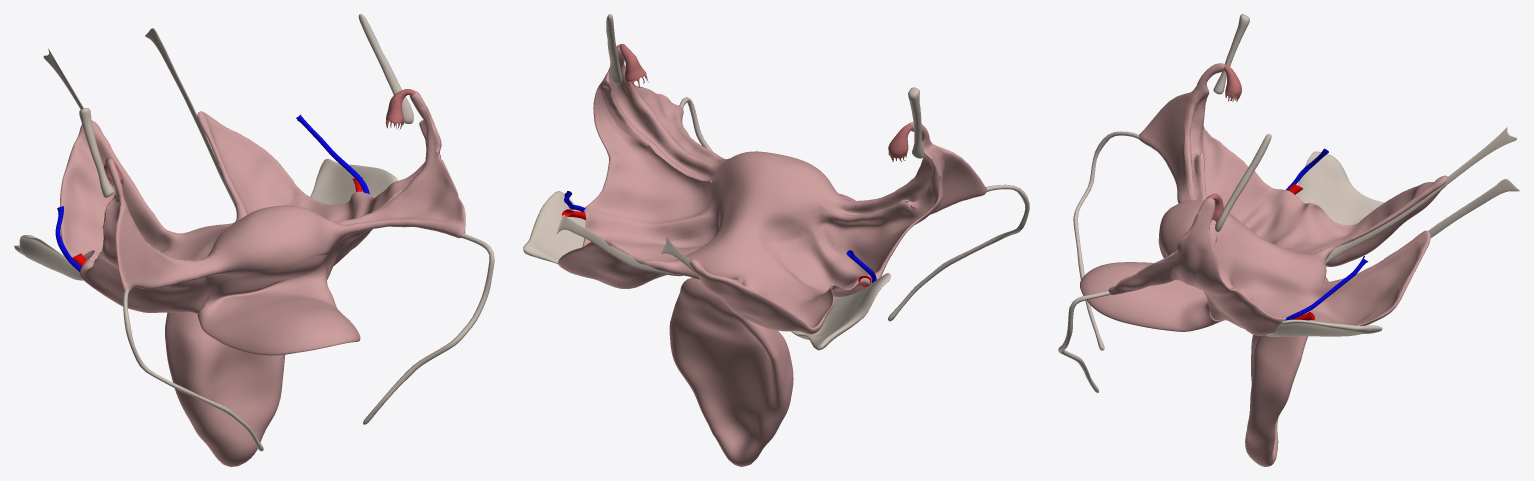
File: 3d-vh-f-uterus-landmark.fbx
3 renders of one model, left to right at view 1: azimuth 30°, elevation 25°; view 2: azimuth 150°, elevation 25°; view 3: azimuth 270°, elevation 25°, orthographic. The views are drawn at different scales.
Parts seen in each view (by area): view 1: VH_F_uterus_landmark_ligaments_of_uterus_and_ovaries, VH_F_uterus_landmark_vagina, VH_F_uterus_landmark_left_uterine_vein, VH_F_uterus_landmark_fallopian_tube_L; view 2: VH_F_uterus_landmark_ligaments_of_uterus_and_ovaries, VH_F_uterus_landmark_vagina, VH_F_uterus_landmark_fallopian_tube_L, VH_F_uterus_landmark_fallopian_tube_R; view 3: VH_F_uterus_landmark_ligaments_of_uterus_and_ovaries, VH_F_uterus_landmark_vagina, VH_F_uterus_landmark_left_uterine_vein.
Boxes of the visible parts, bbox=[...] form: VH_F_uterus_landmark_ligaments_of_uterus_and_ovaries: bbox=[14, 14, 494, 451]; VH_F_uterus_landmark_vagina: bbox=[165, 312, 285, 466]; VH_F_uterus_landmark_left_uterine_vein: bbox=[296, 114, 369, 194]; VH_F_uterus_landmark_fallopian_tube_L: bbox=[385, 89, 415, 129]; VH_F_uterus_landmark_ligaments_of_uterus_and_ovaries: bbox=[523, 14, 1029, 350]; VH_F_uterus_landmark_vagina: bbox=[669, 278, 793, 466]; VH_F_uterus_landmark_fallopian_tube_L: bbox=[619, 44, 648, 89]; VH_F_uterus_landmark_fallopian_tube_R: bbox=[854, 123, 912, 207]; VH_F_uterus_landmark_ligaments_of_uterus_and_ovaries: bbox=[1058, 14, 1519, 392]; VH_F_uterus_landmark_vagina: bbox=[1245, 276, 1328, 466]; VH_F_uterus_landmark_left_uterine_vein: bbox=[1285, 256, 1368, 320].
Size of the model in its own units: 14.71 by 15.9 by 17.06.
